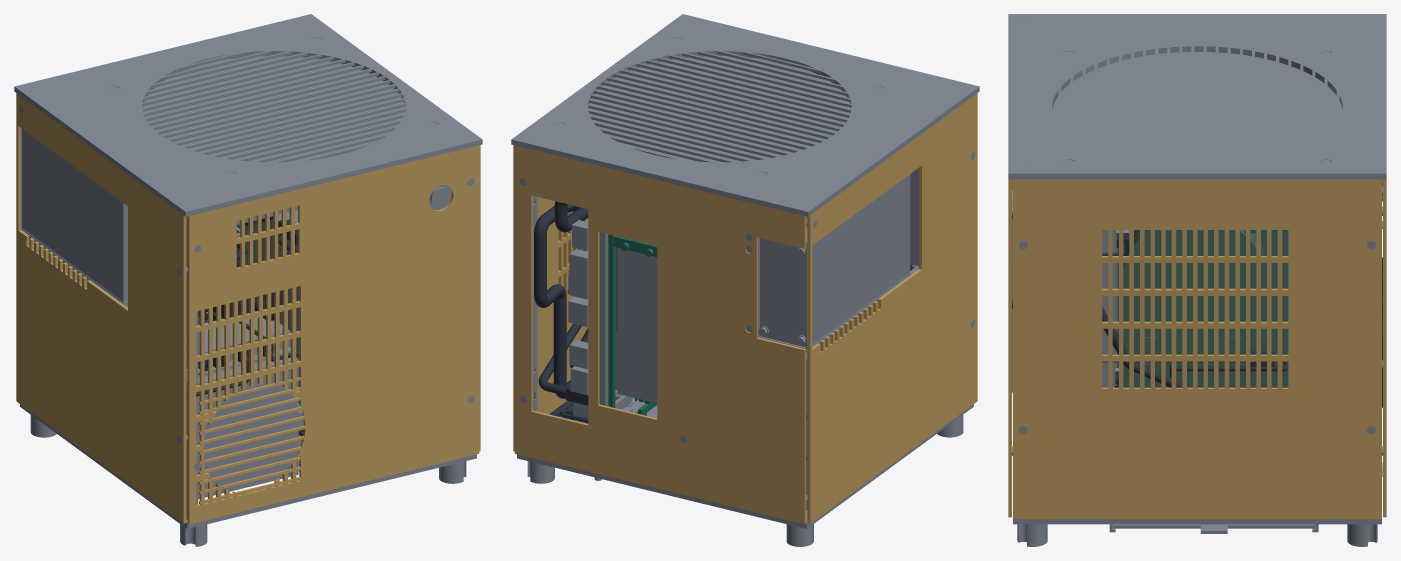
File: kiwinest-public.glb
3 renders of one model, left to right at view 1: azimuth 30°, elevation 25°; view 2: azimuth 150°, elevation 25°; view 3: azimuth 270°, elevation 25°, orthographic. The views are drawn at different scales.
Visible parts, largest first — view 1: SKIN_R6_front, TOP_R6_lid, SKIN_R6_left, PSU_R9_ENP7660B_ORIGINAL_ROLLED_BODY_REFERENCE, top_fan_body, R9_HDD_NF_A9_PWM_WITH_PADS_ENGINEERING_PROXY, FRAME_R6_base, gpu_body, FANHUB_R6_Noctua_NAFH1_93x43x12p5_VENDOR_ENVELOPE, FRAME_R6_corner_10_10, SKIN_R6_right; view 2: SKIN_R6_back, TOP_R6_lid, SKIN_R6_left, PSU_R9_ENP7660B_ORIGINAL_ROLLED_BODY_REFERENCE, top_fan_body, gpu_body, SKIN_R6_right, CABLE_R8_K83_x8_SINGLE_BUNDLE_500mm_D9p4_PLANNING, FRAME_R6_base, GPU_R6_fixed_open_spine, MAINBOARD_MOUNT_R6_DS2501_open_tray, mini_itx_pcb (+4 smaller); view 3: SKIN_R6_right, TOP_R6_lid, top_fan_body, CPU_DS2501_stock_round_copper_25mm_TOTAL_PHOTO_PROXY, mini_itx_pcb, FRAME_R6_base, RAM_DS2501_DDR4_SODIMM_EXISTING_2_PHOTO_PROXY, SKIN_R6_front, SKIN_R6_back, gpu_body, FILTER_R6_inset_front_pull, SSD_DS2501_front_M2_2280_2_PHOTO_PROXY (+4 smaller).
Part boxes in pixels (<box>): SKIN_R6_front: <box>187,145,479,524</box>; TOP_R6_lid: <box>14,14,482,216</box>; SKIN_R6_left: <box>16,93,186,523</box>; PSU_R9_ENP7660B_ORIGINAL_ROLLED_BODY_REFERENCE: <box>21,129,127,301</box>; top_fan_body: <box>143,56,405,224</box>; R9_HDD_NF_A9_PWM_WITH_PADS_ENGINEERING_PROXY: <box>197,357,298,499</box>; FRAME_R6_base: <box>20,404,476,528</box>; gpu_body: <box>236,210,299,384</box>; FANHUB_R6_Noctua_NAFH1_93x43x12p5_VENDOR_ENVELOPE: <box>198,317,290,361</box>; FRAME_R6_corner_10_10: <box>127,219,290,381</box>; SKIN_R6_right: <box>479,145,480,451</box>; SKIN_R6_back: <box>514,145,806,524</box>; TOP_R6_lid: <box>511,14,979,216</box>; SKIN_R6_left: <box>807,93,977,523</box>; PSU_R9_ENP7660B_ORIGINAL_ROLLED_BODY_REFERENCE: <box>760,174,910,347</box>; top_fan_body: <box>588,56,851,162</box>; gpu_body: <box>617,247,657,403</box>; SKIN_R6_right: <box>513,145,588,451</box>; CABLE_R8_K83_x8_SINGLE_BUNDLE_500mm_D9p4_PLANNING: <box>534,201,588,398</box>; FRAME_R6_base: <box>517,404,973,528</box>; GPU_R6_fixed_open_spine: <box>608,234,657,413</box>; MAINBOARD_MOUNT_R6_DS2501_open_tray: <box>601,232,632,412</box>; mini_itx_pcb: <box>599,232,617,405</box>; SKIN_R6_right: <box>1013,179,1381,519</box>; TOP_R6_lid: <box>1008,14,1386,179</box>; top_fan_body: <box>1052,52,1342,168</box>; CPU_DS2501_stock_round_copper_25mm_TOTAL_PHOTO_PROXY: <box>1123,230,1265,345</box>; mini_itx_pcb: <box>1117,230,1288,387</box>; FRAME_R6_base: <box>1013,519,1381,532</box>; RAM_DS2501_DDR4_SODIMM_EXISTING_2_PHOTO_PROXY: <box>1144,337,1242,378</box>; SKIN_R6_front: <box>1008,179,1011,517</box>; SKIN_R6_back: <box>1383,179,1386,517</box>; gpu_body: <box>1102,230,1117,385</box>; FILTER_R6_inset_front_pull: <box>1113,524,1314,533</box>; SSD_DS2501_front_M2_2280_2_PHOTO_PROXY: <box>1271,263,1288,366</box>.
Bounding box in the file's own units: 250 × 275 × 250.
